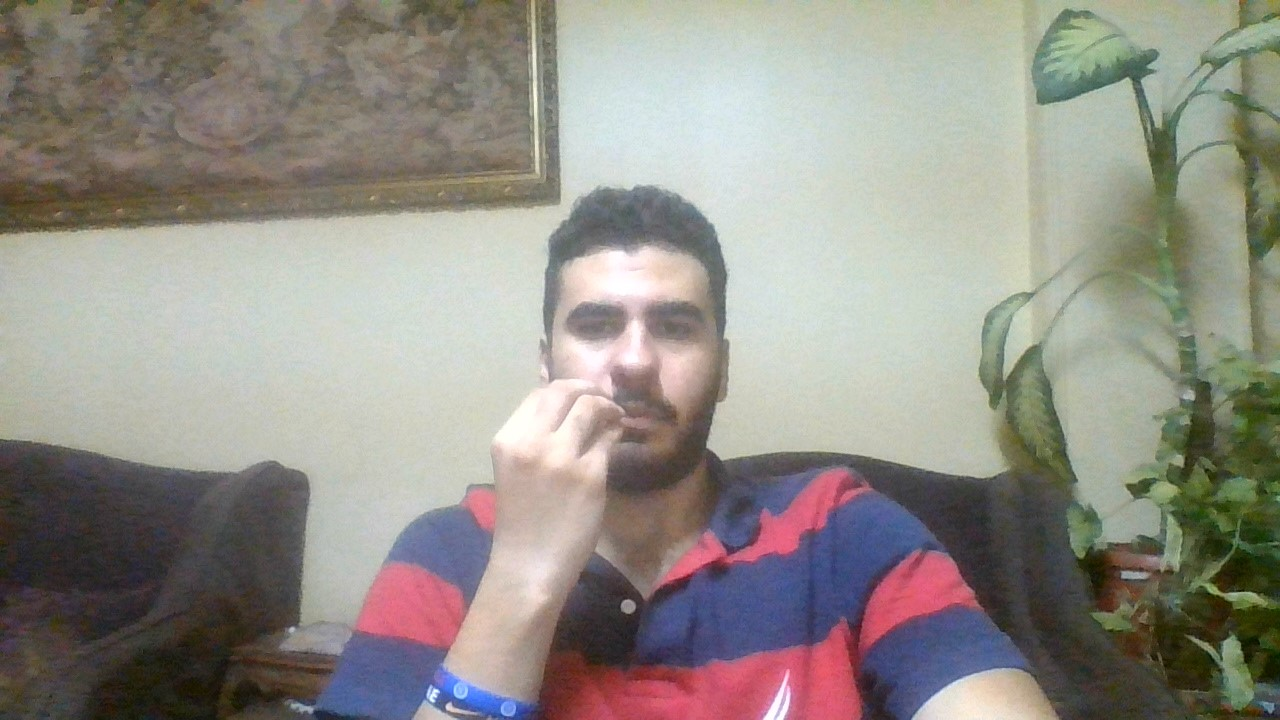eat: (477, 375, 628, 571)
